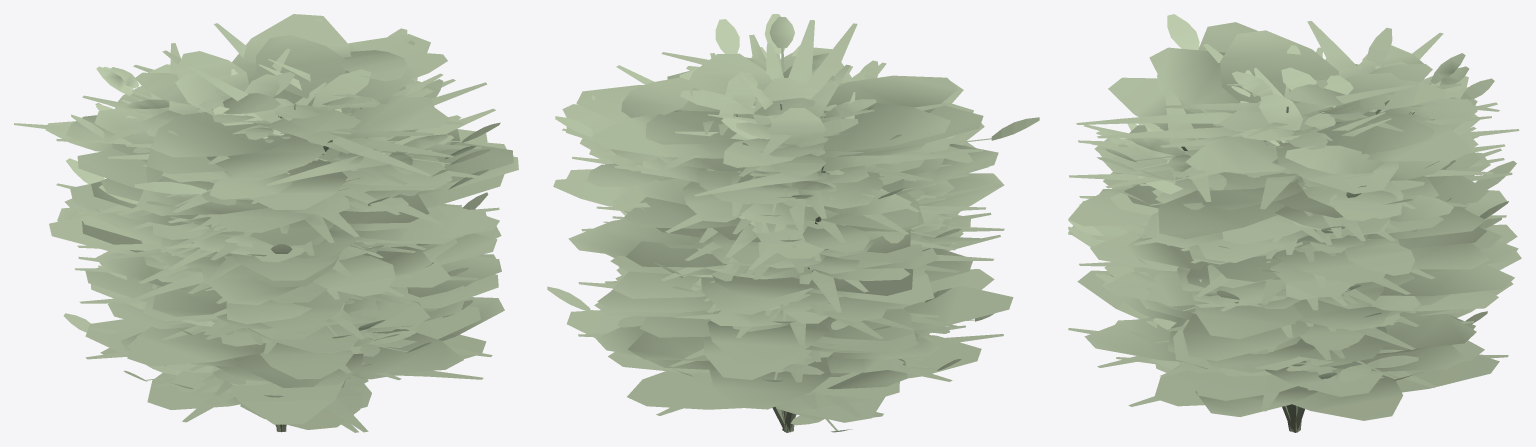
File: herb_erect.glb
The picture shows the model from 3 angles, left to right: view 1: azimuth 30°, elevation 25°; view 2: azimuth 150°, elevation 25°; view 3: azimuth 270°, elevation 25°; orthographic projection. The views are drawn at different scales.
Visible parts, largest first — view 1: v7_foliage, v5_foliage, v4_foliage, v0_foliage, v29_foliage, v11_foliage, v30_foliage, v19_foliage, v6_foliage, v25_foliage, v24_foliage, v18_foliage (+8 smaller); view 2: v7_foliage, v5_foliage, v0_foliage, v4_foliage, v29_foliage, v11_foliage, v24_foliage, v30_foliage, v6_foliage, v19_foliage, v25_foliage, v1_foliage (+8 smaller); view 3: v5_foliage, v7_foliage, v4_foliage, v0_foliage, v11_foliage, v29_foliage, v19_foliage, v30_foliage, v25_foliage, v18_foliage, v6_foliage, v14_foliage (+9 smaller).
Part boxes in pixels (x1,y1,x2,y2): v7_foliage: (57,14,506,429); v5_foliage: (49,34,518,432); v4_foliage: (127,35,499,424); v0_foliage: (45,50,447,429); v29_foliage: (77,82,492,432); v11_foliage: (66,28,490,389); v30_foliage: (56,128,499,379); v19_foliage: (110,50,495,431); v6_foliage: (139,51,408,387); v25_foliage: (117,66,443,393); v24_foliage: (14,23,463,432); v18_foliage: (150,73,434,353); v7_foliage: (567,75,1013,422); v5_foliage: (566,47,994,432); v0_foliage: (553,77,973,430); v4_foliage: (566,53,970,419); v29_foliage: (578,34,1003,415); v11_foliage: (547,14,1039,381); v24_foliage: (589,53,967,417); v30_foliage: (572,20,1004,362); v6_foliage: (697,78,924,394); v19_foliage: (636,52,985,432); v25_foliage: (562,23,968,363); v1_foliage: (723,108,925,271); v5_foliage: (1077,30,1521,432); v7_foliage: (1068,22,1518,420); v4_foliage: (1068,110,1479,420); v0_foliage: (1127,45,1468,429); v11_foliage: (1097,14,1516,381); v29_foliage: (1068,43,1508,411); v19_foliage: (1069,65,1505,432); v30_foliage: (1068,58,1512,360); v25_foliage: (1076,84,1414,392); v18_foliage: (1148,72,1415,372); v6_foliage: (1152,80,1445,372); v14_foliage: (1068,27,1508,379).
Bounding box in the file's own units: 1.25 × 1 × 1.25.
